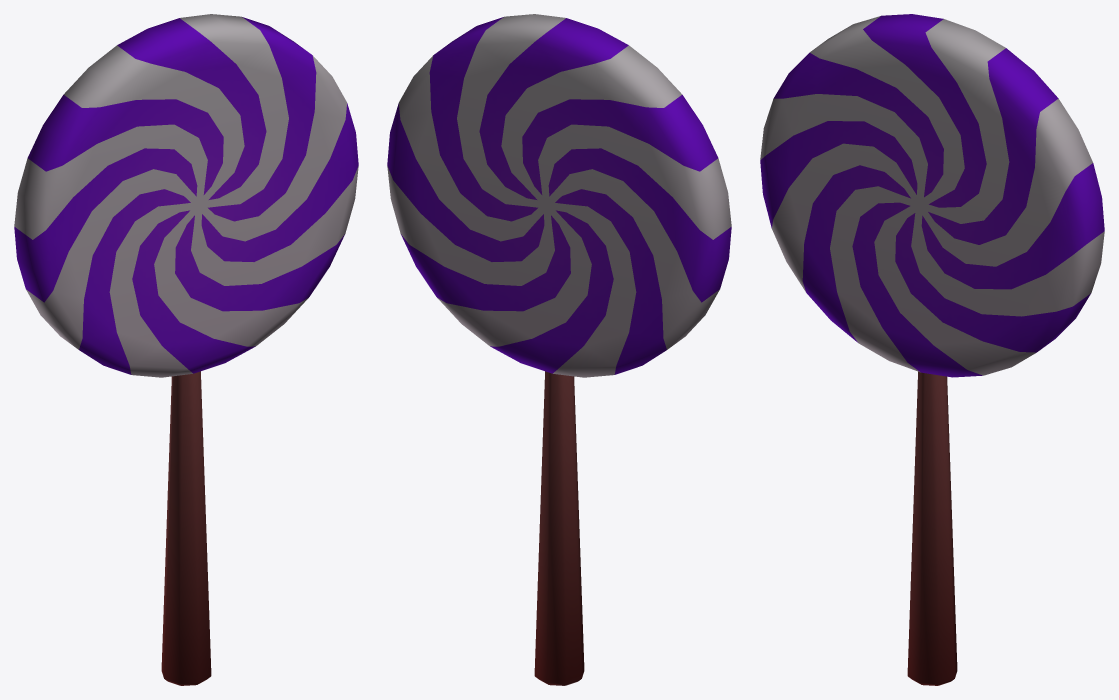
File: Candy_stick.glb
The picture shows the model from 3 angles, left to right: view 1: azimuth 30°, elevation 25°; view 2: azimuth 150°, elevation 25°; view 3: azimuth 330°, elevation 25°; orthographic projection.
Visible parts, largest first — view 1: geometry_0; view 2: geometry_0; view 3: geometry_0.
Part boxes in pixels (<box>): geometry_0: <box>14,14,358,685</box>; geometry_0: <box>387,14,731,685</box>; geometry_0: <box>760,14,1104,685</box>.
Size of the model in its own units: 0.0937 by 0.1791 by 0.0129.
1 material, 1 textured.
